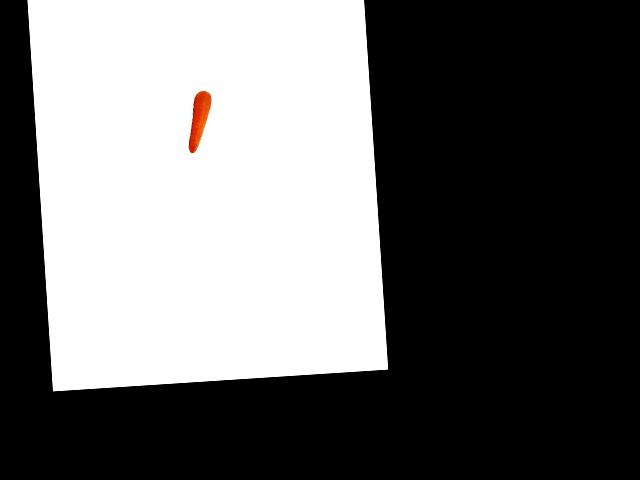carrot: (179, 76, 216, 157)
